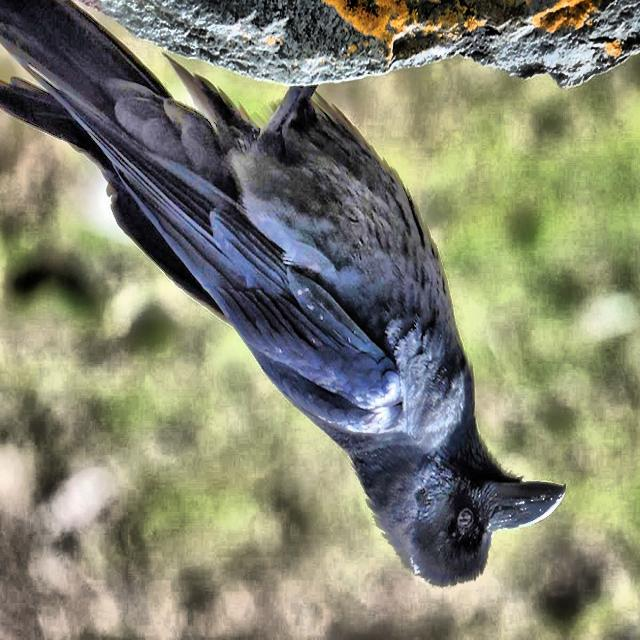crow: (0, 0, 572, 598)
